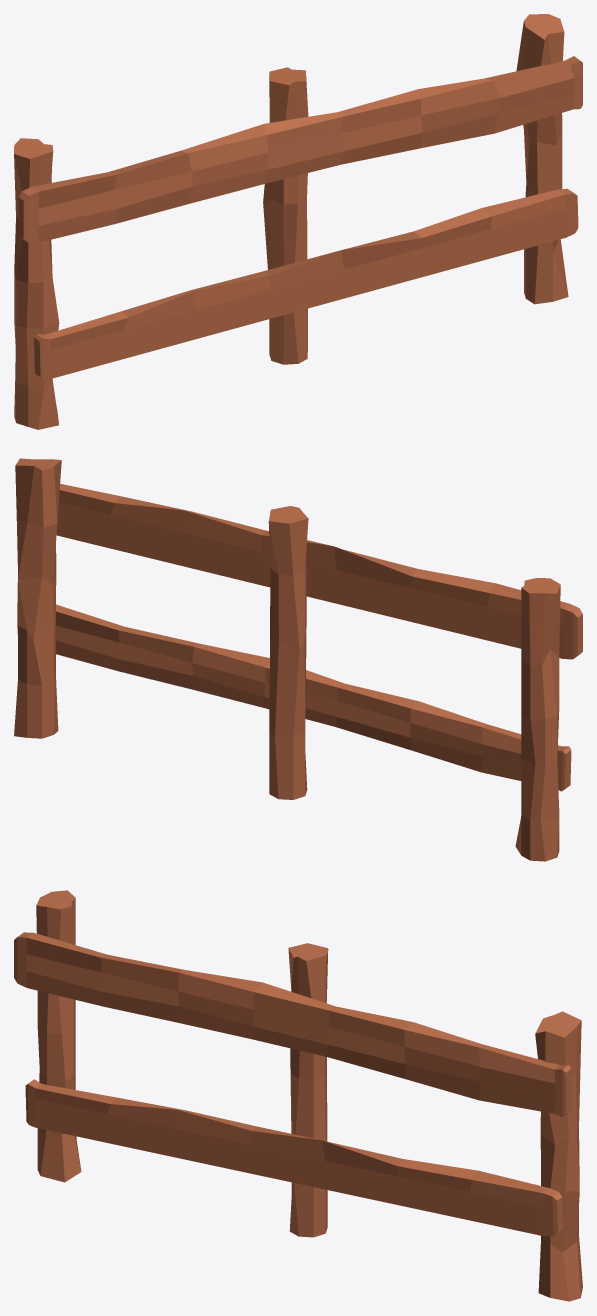
The model's file is Cerca Base 1.fbx.
The picture shows the model from 3 angles, top to bottom: view 1: azimuth 30°, elevation 25°; view 2: azimuth 150°, elevation 25°; view 3: azimuth 330°, elevation 25°; orthographic projection.
Parts seen in each view (by area): view 1: Cerca; view 2: Cerca; view 3: Cerca.
Part boxes in pixels (<box>): Cerca: <box>14,14,582,429</box>; Cerca: <box>14,458,582,861</box>; Cerca: <box>14,890,582,1301</box>.
Bounding box in the file's own units: 990 × 484 × 110.
